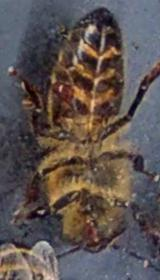varroa_mite: (48, 77, 78, 106)
